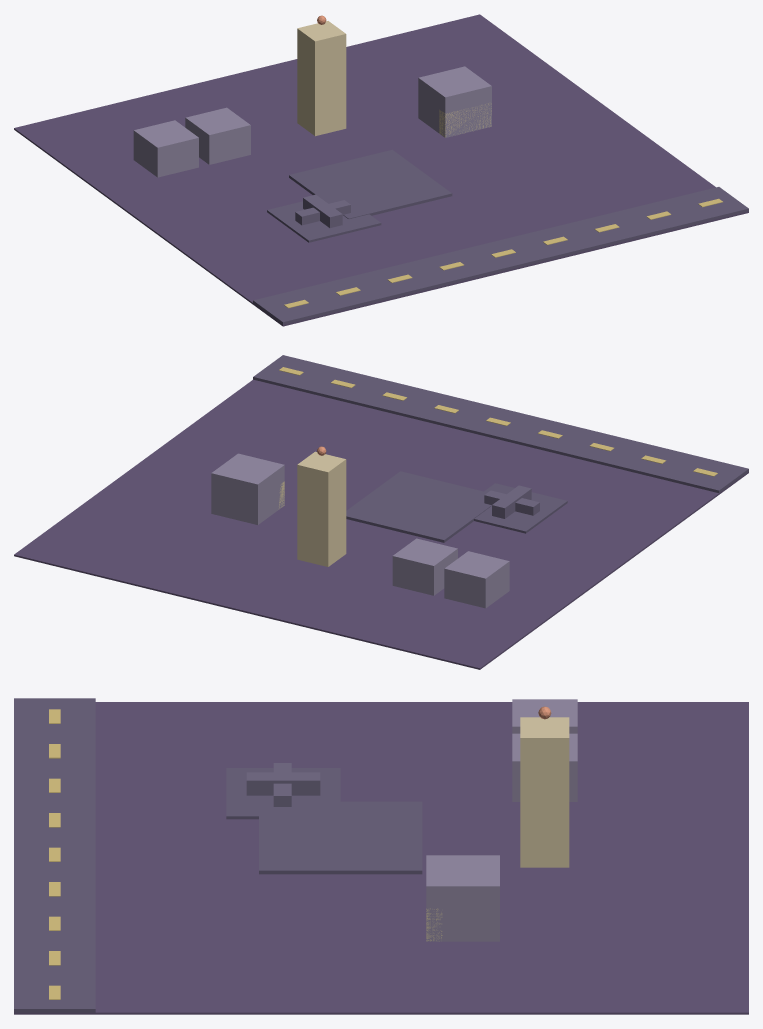
File: stage_06.glb
3 renders of one model, top to bottom at view 1: azimuth 30°, elevation 25°; view 2: azimuth 150°, elevation 25°; view 3: azimuth 270°, elevation 25°, orthographic. The views are drawn at different scales.
Visible parts, largest first — view 1: geometry_0; view 2: geometry_0; view 3: geometry_0.
Boxes of the visible parts, x1,y1,x2,y2 form: geometry_0: (14,14,748,326); geometry_0: (14,355,748,669); geometry_0: (14,698,748,1014).
Size of the model in its own units: 9 by 2.06 by 9.
